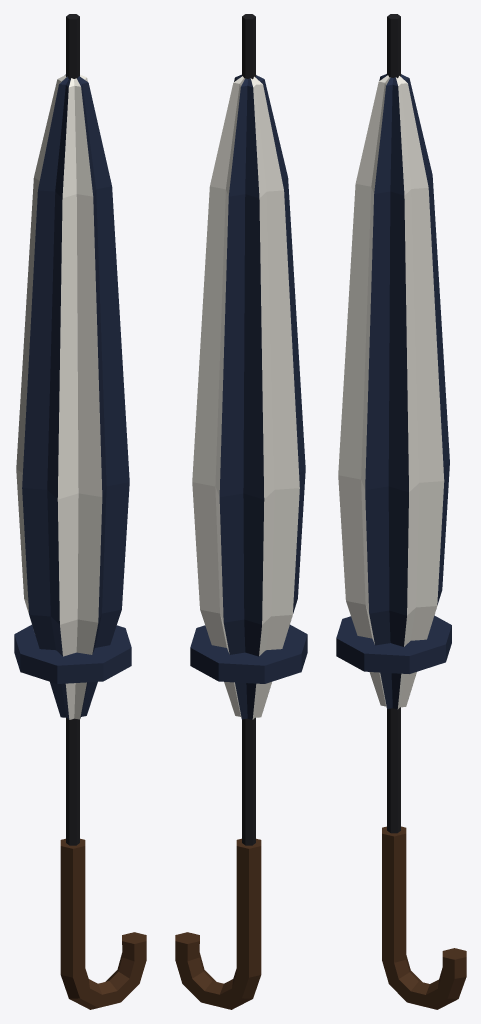
File: umbrella.glb
3 renders of one model, left to right at view 1: azimuth 30°, elevation 25°; view 2: azimuth 150°, elevation 25°; view 3: azimuth 330°, elevation 25°, orthographic.
Visible parts, largest first — view 1: umbrella; view 2: umbrella; view 3: umbrella.
Part boxes in pixels (left/top/right/bottom): umbrella: left=14, top=14, right=146, bottom=1009; umbrella: left=175, top=14, right=307, bottom=1009; umbrella: left=336, top=14, right=466, bottom=1009.
Bounding box in the file's own units: 0.144 × 1.09 × 0.12.
